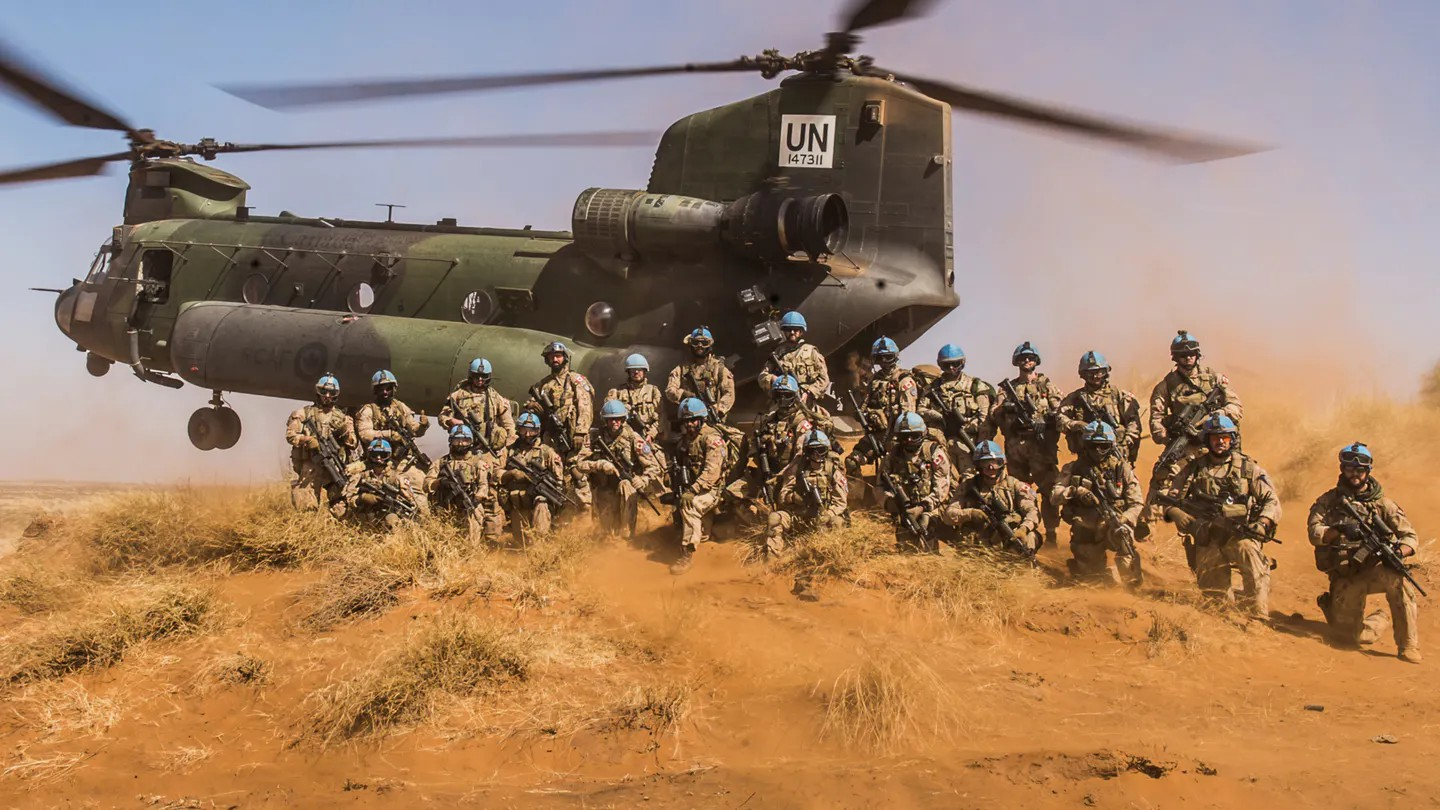chinook: (58, 33, 956, 452)
